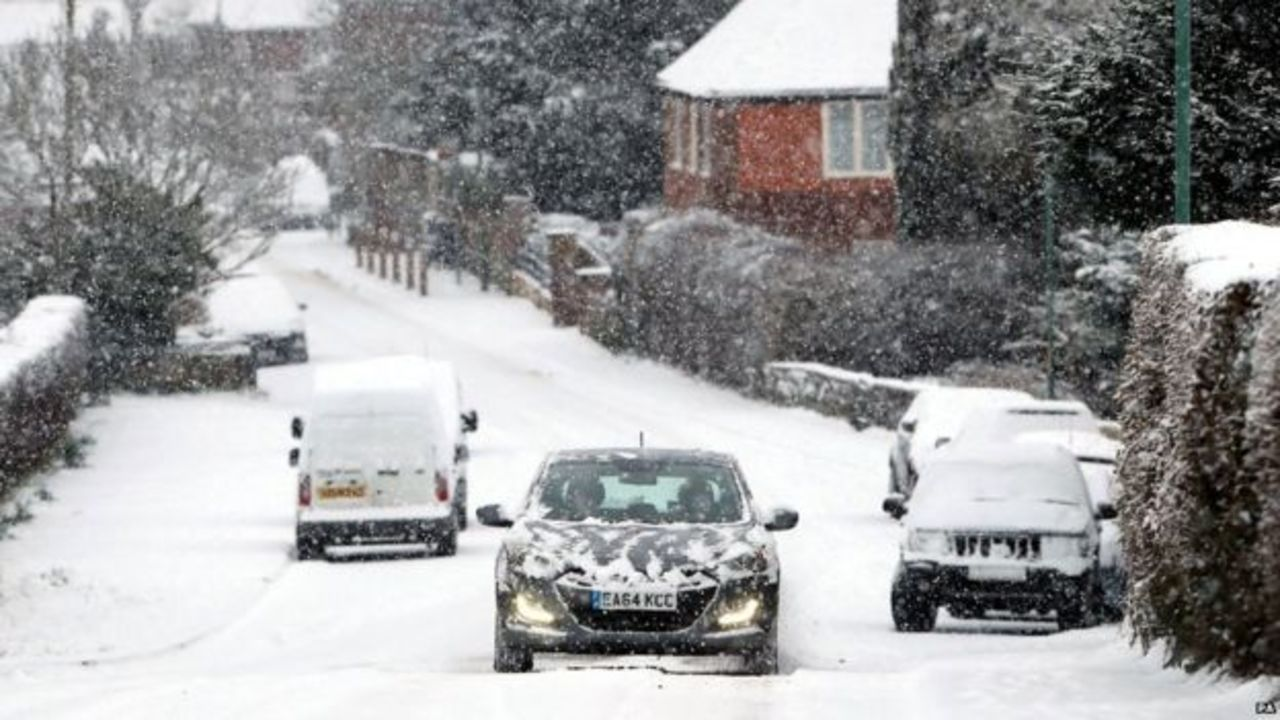car: (485, 436, 792, 676), (887, 411, 1124, 634), (285, 353, 468, 566), (880, 383, 1024, 484), (205, 270, 315, 367)
